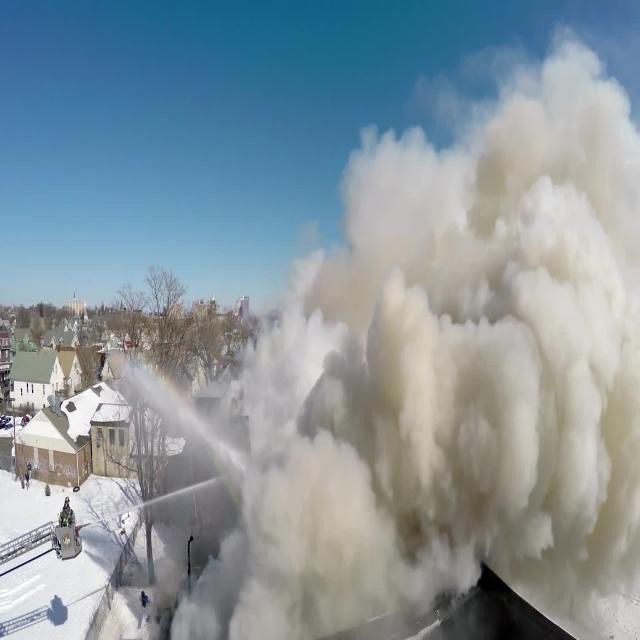smoke: (353, 162, 634, 598), (258, 466, 345, 608)
